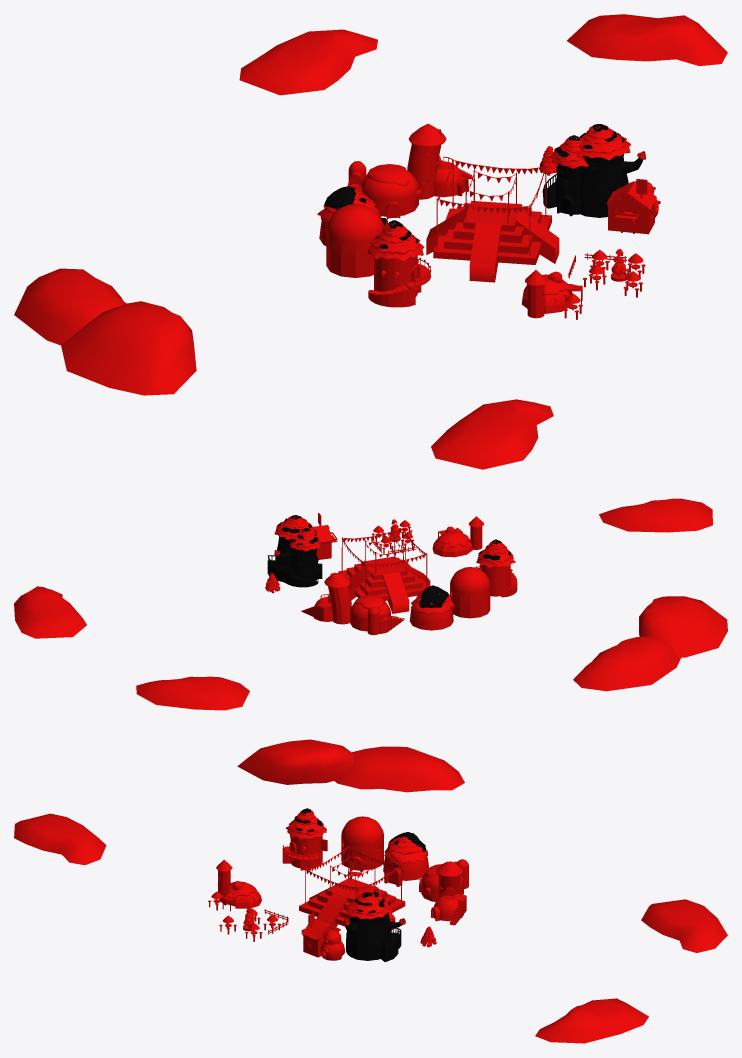
The model's file is Neighborhood_NothingHappeningHereSquare_03.glb.
3 views of the same model, one above another, from view 1: azimuth 30°, elevation 25°; view 2: azimuth 150°, elevation 25°; view 3: azimuth 270°, elevation 25° (orthographic). The views are drawn at different scales.
Parts seen in each view (by area): view 1: SnowPatch3, pasted__pasted__Building_Stairs, pasted__polySurface119, SnowPatch6, SnowPatch5, SnowPatch2, SnowPatch4, pasted__polySurface40, pasted__polySurface49, pasted__pCube52, pasted__polySurface51, pasted__polySurface50 (+5 smaller); view 2: SnowPatch3, SnowPatch4, SnowPatch5, SnowPatch2, pasted__polySurface119, pasted__pasted__Building_Stairs, SnowPatch6, pasted__polySurface40, pasted__polySurface49, pasted__polySurface50, pasted__pSphere7, pasted__polySurface48 (+6 smaller); view 3: SnowPatch4, SnowPatch3, pasted__polySurface119, SnowPatch6, SnowPatch2, SnowPatch5, pasted__pasted__Building_Stairs, pasted__polySurface40, pasted__polySurface49, pasted__polySurface51, pasted__polySurface50, pasted__polySurface48 (+4 smaller).
Boxes of the visible parts, x1,y1,x2,y2 form: SnowPatch3: (61, 301, 196, 395); pasted__pasted__Building_Stairs: (426, 200, 559, 282); pasted__polySurface119: (542, 124, 645, 217); SnowPatch6: (567, 14, 727, 66); SnowPatch5: (239, 29, 377, 95); SnowPatch2: (431, 399, 553, 469); SnowPatch4: (14, 268, 126, 345); pasted__polySurface40: (326, 204, 384, 277); pasted__polySurface49: (407, 123, 472, 199); pasted__pCube52: (368, 256, 431, 307); pasted__polySurface51: (606, 179, 660, 234); pasted__polySurface50: (521, 270, 582, 318); SnowPatch3: (639, 596, 727, 657); SnowPatch4: (573, 637, 680, 691); SnowPatch5: (136, 676, 249, 710); SnowPatch2: (599, 498, 712, 532); pasted__polySurface119: (267, 515, 322, 587); pasted__pasted__Building_Stairs: (338, 556, 430, 613); SnowPatch6: (14, 586, 86, 638); pasted__polySurface40: (450, 567, 490, 618); pasted__polySurface49: (301, 572, 351, 624); pasted__polySurface50: (432, 516, 484, 557); pasted__pSphere7: (350, 600, 403, 635); pasted__polySurface48: (411, 585, 454, 614); SnowPatch4: (334, 746, 464, 792); SnowPatch3: (237, 739, 353, 784); pasted__polySurface119: (343, 892, 405, 962); SnowPatch6: (535, 998, 648, 1043); SnowPatch2: (14, 813, 106, 865); SnowPatch5: (641, 899, 727, 952); pasted__pasted__Building_Stairs: (299, 878, 405, 929); pasted__polySurface40: (341, 816, 383, 870); pasted__polySurface49: (434, 861, 466, 925); pasted__polySurface51: (301, 913, 344, 960); pasted__polySurface50: (216, 859, 261, 911); pasted__polySurface48: (384, 832, 427, 868).
Bounding box in the file's own units: 60.34 × 6.54 × 61.72.
